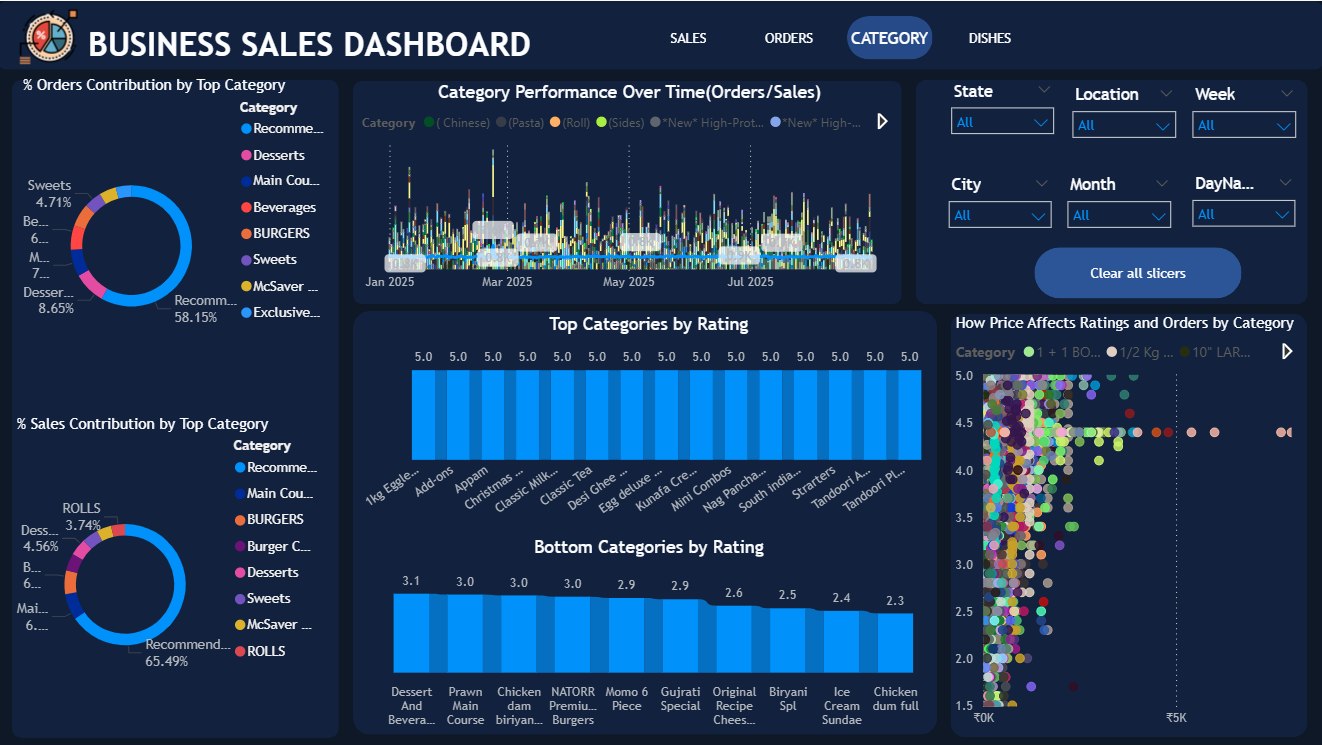

The dashboard page shown, as its layout file describes it:
{"tool":"powerbi","page":{"name":"CATEGORY","canvas":[1280,720],"ordinal":2},"visuals":[{"type":"shape","box":[885.1,75.5,378.7,216.8],"z":0},{"type":"shape","box":[0,0,1280,66.4],"z":1000},{"type":"shape","box":[343.1,76.8,529.7,215.4],"z":2000},{"type":"shape","box":[13.7,75.5,315.6,635.3],"z":3000},{"type":"shape","box":[343.1,299.1,564,408.9],"z":4000},{"type":"shape","box":[919.4,301.9,344.4,408.9],"z":5000},{"type":"textbox","box":[30.2,0,540.7,65.9],"z":6000},{"type":"image","box":[13.7,4.1,71.4,61.7],"z":7000},{"type":"slicer","fields":{"Values":["Business_sales_Data.Location"]},"box":[1026.1,75.5,120,76],"z":8000},{"type":"slicer","fields":{"Values":["Business_sales_Data.State"]},"box":[909.8,72.7,119.4,75.5],"z":9000},{"type":"columnChart","title":"Top Categories by Rating","fields":{"Category":["Business_sales_Data.Category"],"Y":["DAX Table.AVG RATING"]},"box":[345.8,301.9,564,204.5],"z":10000},{"type":"pageNavigator","box":[624.9,14.5,376.4,42.2],"z":11000},{"type":"slicer","fields":{"Values":["Business_sales_Data.City"]},"box":[907,163.3,119.4,75.5],"z":12000},{"type":"slicer","fields":{"Values":["Date_table.DayName"]},"box":[1143.1,161.9,119.4,75.5],"z":13000},{"type":"slicer","fields":{"Values":["Date_table.Month"]},"box":[1022.3,163.3,120.8,75.5],"z":14000},{"type":"slicer","fields":{"Values":["Date_table.Week"]},"box":[1143.1,75.5,120.8,76.8],"z":15000},{"type":"actionButton","box":[1000.3,237.4,200.3,49.4],"z":16000},{"type":"lineStackedColumnComboChart","title":"Category Performance Over Time(Orders/Sales)","fields":{"Category":["Business_sales_Data.Order_Date"],"Series":["Business_sales_Data.Category"],"Y":["DAX Table.Total Sales"],"Y2":["DAX Table.Total Orders"]},"box":[345.8,76.8,526.9,209.9],"z":17000},{"type":"scatterChart","title":"How Price Affects Ratings and Orders by Category","fields":{"Y":["Avg(Business_sales_Data.Rating)"],"X":["DAX Table.AVG PRICE"],"Category":["Business_sales_Data.Order_Date"],"Series":["Business_sales_Data.Category"]},"box":[919.4,301.9,344.4,406.2],"z":18000},{"type":"columnChart","title":"Bottom Categories by Rating","fields":{"Category":["Business_sales_Data.Category"],"Y":["DAX Table.AVG RATING"]},"box":[345.8,516,564,192.1],"z":19000},{"type":"donutChart","title":"% Orders Contribution by Top Category","fields":{"Category":["Business_sales_Data.Category"],"Y":["DAX Table.Total Orders"]},"box":[19.2,72.7,310.1,311.5],"z":20000},{"type":"donutChart","title":"% Sales Contribution by Top Category","fields":{"Category":["Business_sales_Data.Category"],"Y":["DAX Table.Total Sales"]},"box":[13.7,399.3,310.1,311.5],"z":21000}]}

Visuals, with their boxes in screenshot pixels (x1, y1, x2, y2), scaled from the page's 1280x720 canvas onto the 1322x745 screenshot:
shape: pyautogui.locateOnScreen(914, 78, 1305, 302)
shape: pyautogui.locateOnScreen(0, 0, 1321, 69)
shape: pyautogui.locateOnScreen(354, 79, 901, 302)
shape: pyautogui.locateOnScreen(14, 78, 340, 735)
shape: pyautogui.locateOnScreen(354, 309, 937, 733)
shape: pyautogui.locateOnScreen(950, 312, 1305, 735)
textbox: pyautogui.locateOnScreen(31, 0, 590, 68)
image: pyautogui.locateOnScreen(14, 4, 88, 68)
slicer - Business_sales_Data.Location: pyautogui.locateOnScreen(1060, 78, 1184, 157)
slicer - Business_sales_Data.State: pyautogui.locateOnScreen(940, 75, 1063, 153)
"Top Categories by Rating" columnChart: pyautogui.locateOnScreen(357, 312, 940, 524)
pageNavigator: pyautogui.locateOnScreen(645, 15, 1034, 59)
slicer - Business_sales_Data.City: pyautogui.locateOnScreen(937, 169, 1060, 247)
slicer - Date_table.DayName: pyautogui.locateOnScreen(1181, 168, 1304, 246)
slicer - Date_table.Month: pyautogui.locateOnScreen(1056, 169, 1181, 247)
slicer - Date_table.Week: pyautogui.locateOnScreen(1181, 78, 1305, 158)
actionButton: pyautogui.locateOnScreen(1033, 246, 1240, 297)
"Category Performance Over Time(Orders/Sales)" lineStackedColumnComboChart: pyautogui.locateOnScreen(357, 79, 901, 297)
"How Price Affects Ratings and Orders by Category" scatterChart: pyautogui.locateOnScreen(950, 312, 1305, 733)
"Bottom Categories by Rating" columnChart: pyautogui.locateOnScreen(357, 534, 940, 733)
"% Orders Contribution by Top Category" donutChart: pyautogui.locateOnScreen(20, 75, 340, 398)
"% Sales Contribution by Top Category" donutChart: pyautogui.locateOnScreen(14, 413, 334, 735)
